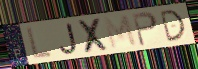D: (158, 9, 187, 44)
J: (58, 21, 79, 56)
L: (25, 25, 55, 62)
M: (102, 13, 139, 51)
P: (131, 10, 159, 48)
X: (75, 17, 112, 55)
